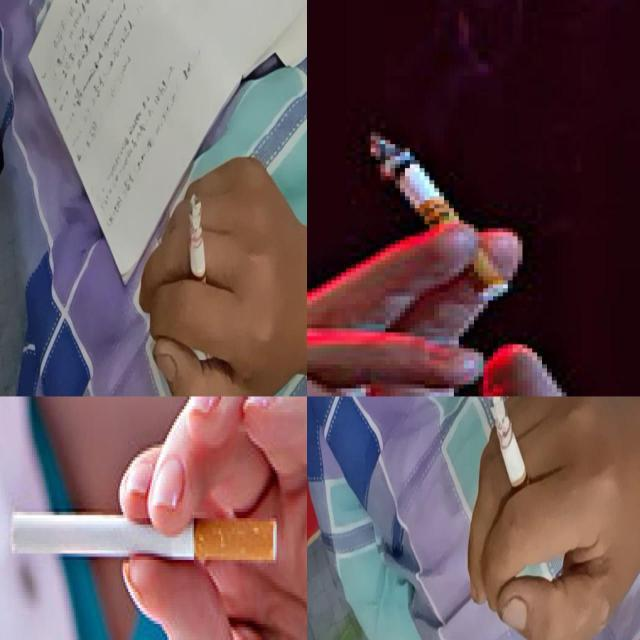smoking: (356, 125, 503, 292), (9, 511, 278, 564), (491, 396, 534, 512), (190, 194, 208, 303)
